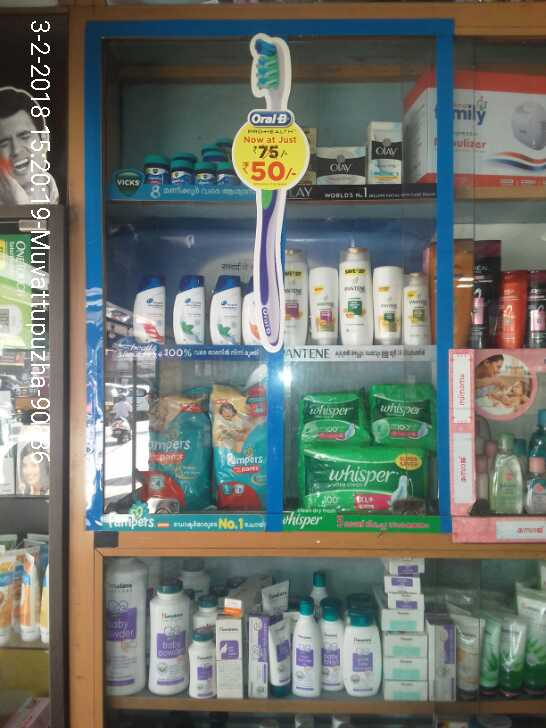vicks: (138, 133, 244, 195)
